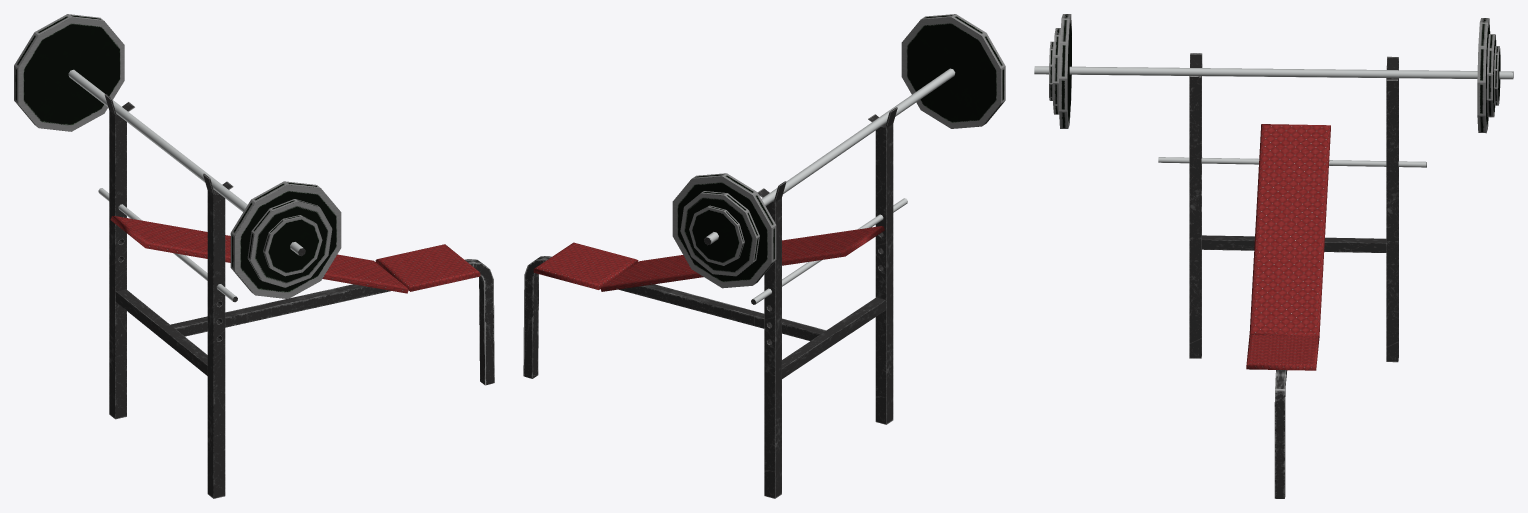
3 renders of one model, left to right at view 1: azimuth 30°, elevation 25°; view 2: azimuth 150°, elevation 25°; view 3: azimuth 270°, elevation 25°, orthographic. The views are drawn at different scales.
Visible parts, largest first — view 1: e1; view 2: e1; view 3: e1.
Boxes of the visible parts, x1,y1,x2,y2 form: e1: (14,14,494,498); e1: (523,14,1005,498); e1: (1034,14,1513,498).
Bounding box in the file's own units: 630 × 585 × 753.
